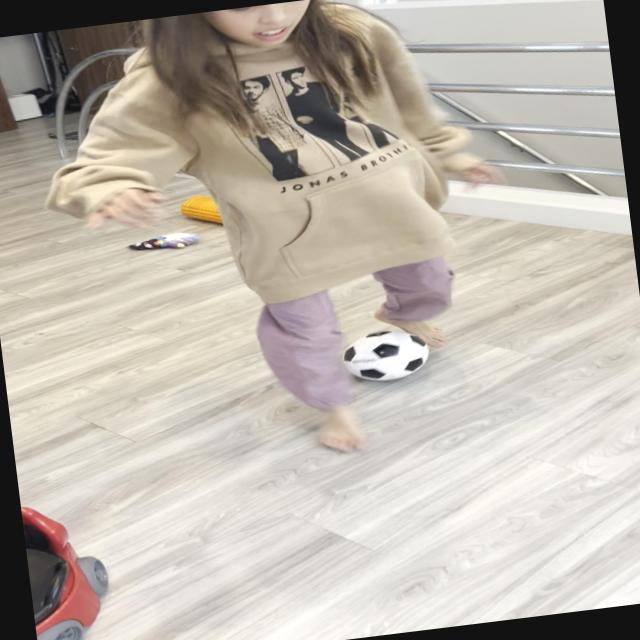Soccer Ball: (336, 320, 437, 387)
